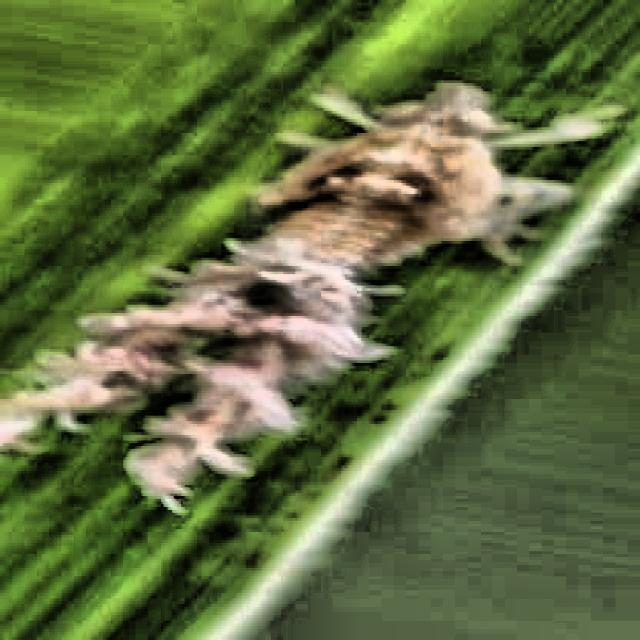Pyrilla-perpusilla: (0, 80, 568, 510)
